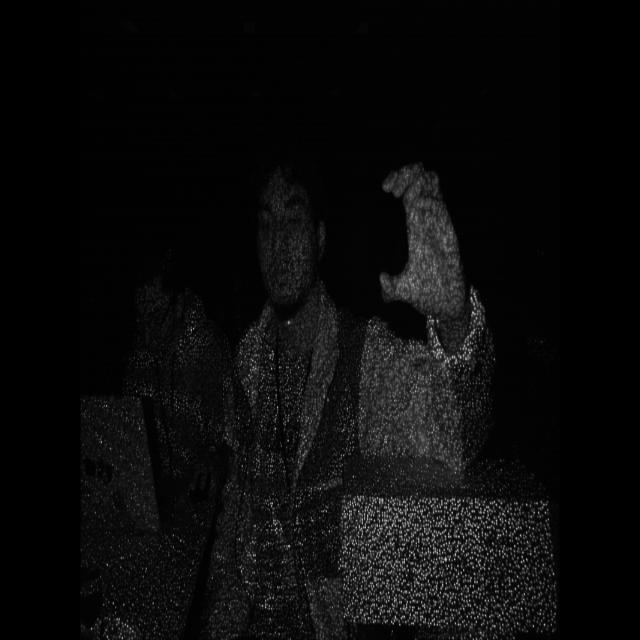C: (367, 148, 477, 336)
